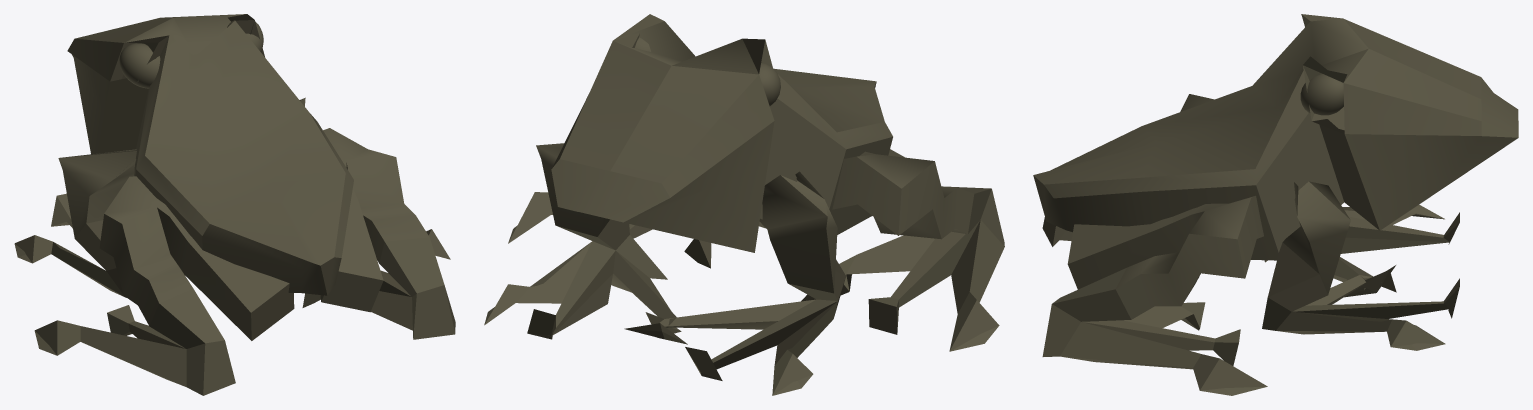
The model's file is StoneFrog.fbx.
3 views of the same model, side by side, from view 1: azimuth 30°, elevation 25°; view 2: azimuth 150°, elevation 25°; view 3: azimuth 270°, elevation 25° (orthographic). The views are drawn at different scales.
Visible parts, largest first — view 1: pPlane14; view 2: pPlane14; view 3: pPlane14.
Part boxes in pixels (box(x1,y1,x2,y2)): pPlane14: box(14, 14, 455, 395); pPlane14: box(484, 14, 1004, 395); pPlane14: box(1033, 14, 1518, 395).
Size of the model in its own units: 3982 by 2433 by 4008.
